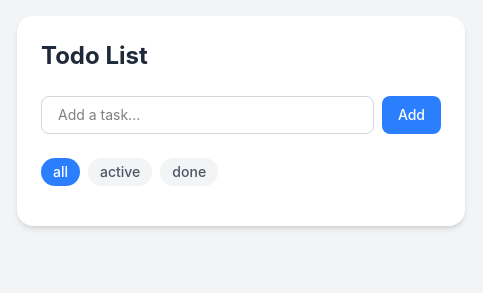
Test: App › deletes a todo
Type "buy milk" into the field with placeholder "Add a task..." at (207, 115), box [41,96,374,134]
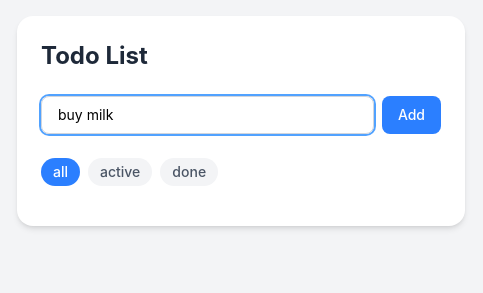
Click the button "Add" at (411, 115), box [382,96,441,134]
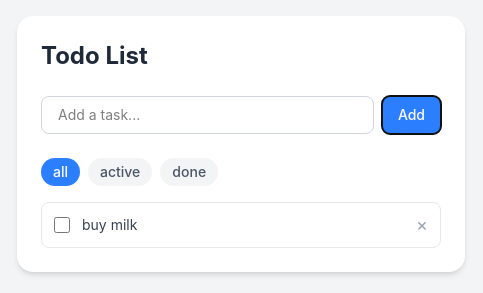
Click the button named "Delete" at (422, 225), box [416,216,428,234]
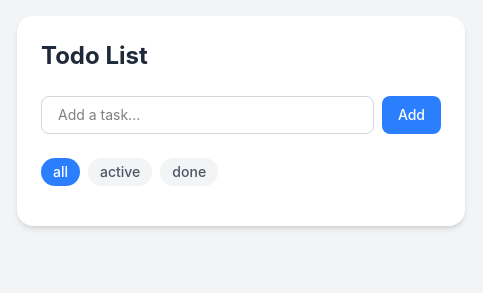
Expected: the text "buy milk" is gone
